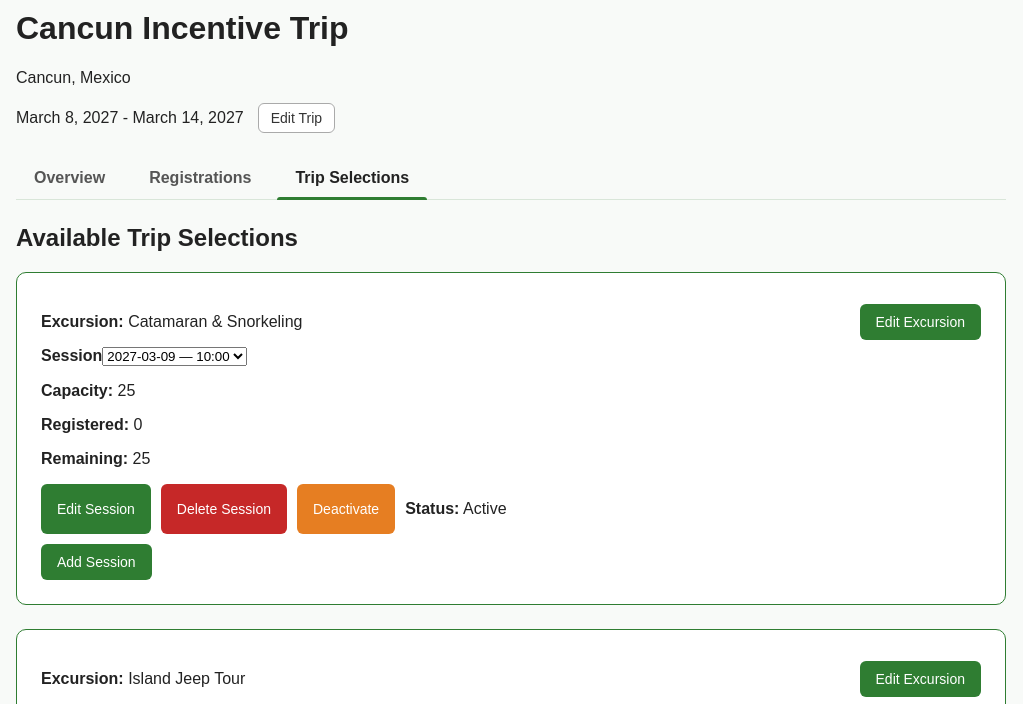
Test: TripManagement › adds a new session to an existing selection
Click the button "Add Session" at (96, 562), box [41, 544, 152, 580]
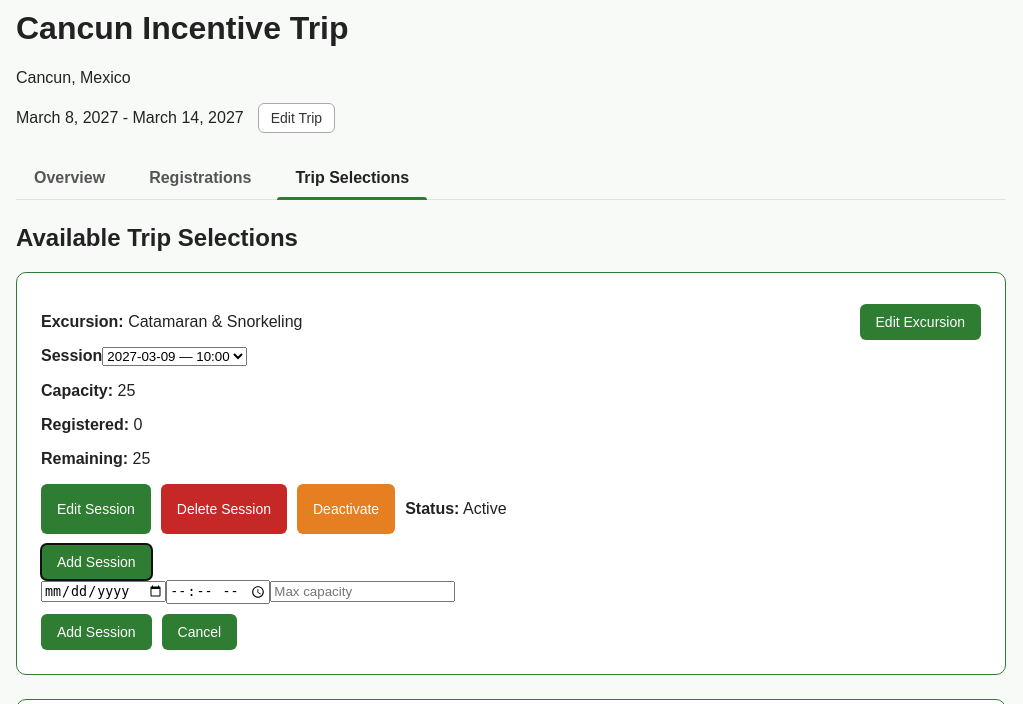
Type "2027-03-10" into the date field at (104, 592), box [41, 581, 166, 602]
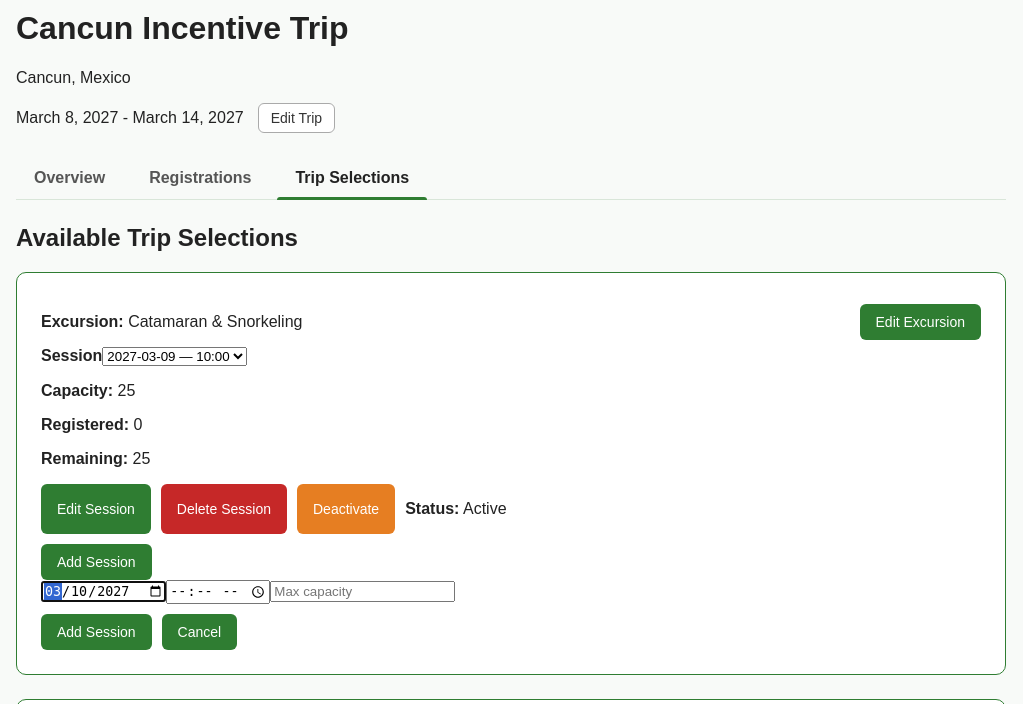
Type "16:30" into the time field at (218, 592), box [166, 580, 270, 604]
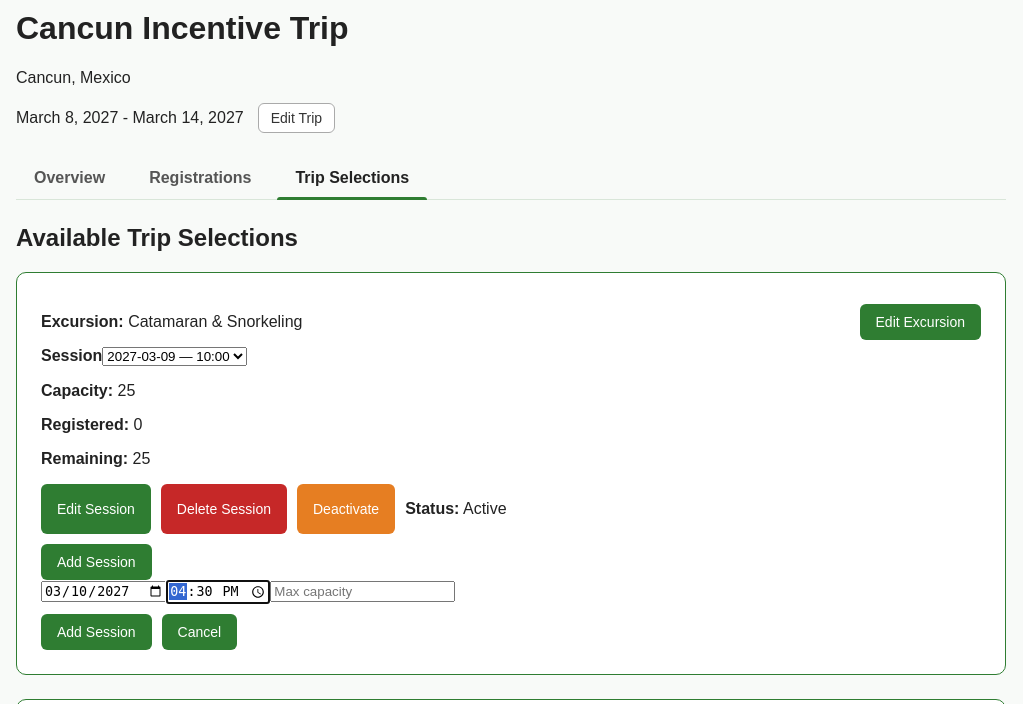
Type "35" into the number field with placeholder "Max capacity" at (363, 592), box [270, 581, 455, 602]
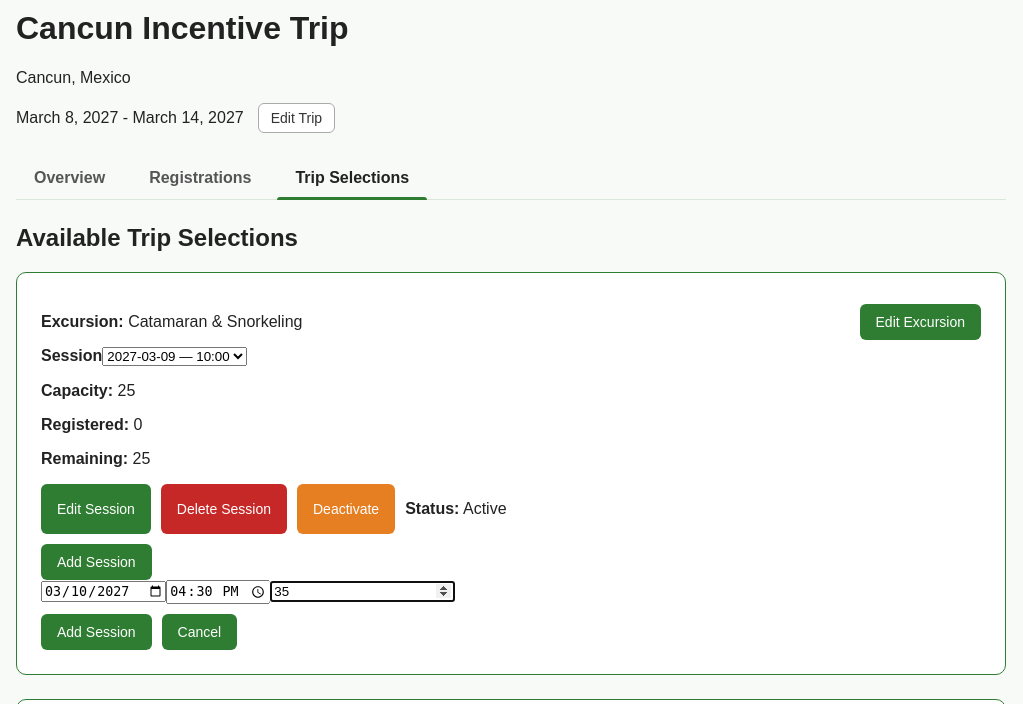
Click the 2nd button "Add Session" at (96, 632), box [41, 614, 152, 650]
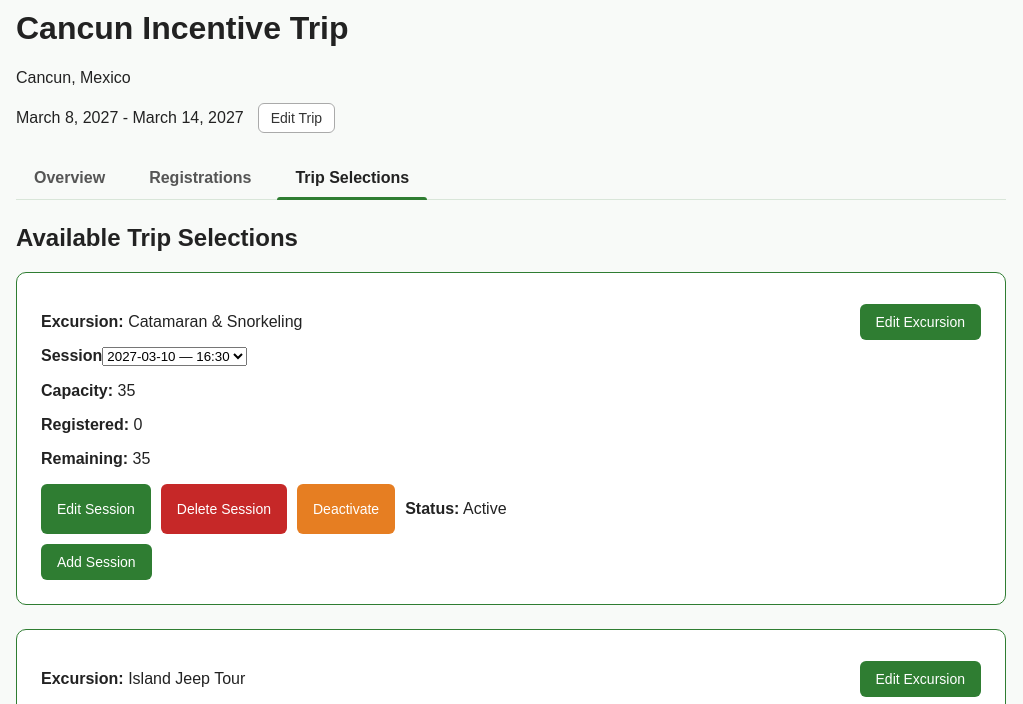
Expected: the element showing "Capacity: 35" is shown, [41, 382, 135, 399]
